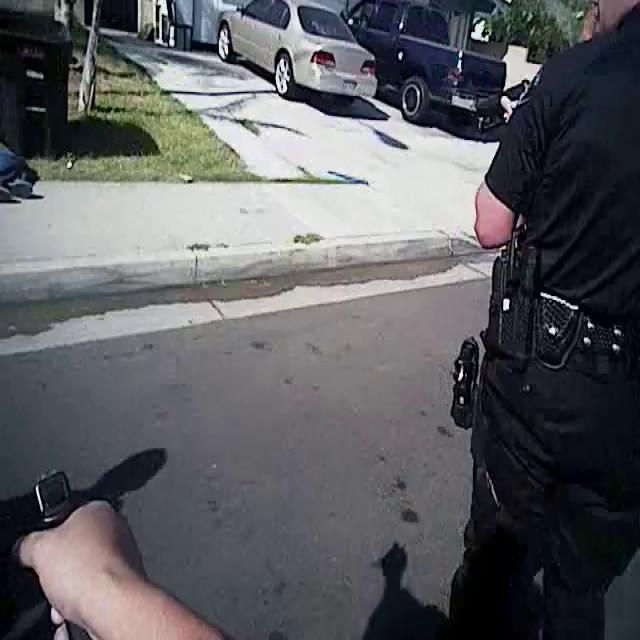gun: (14, 452, 110, 640), (461, 60, 541, 144)
